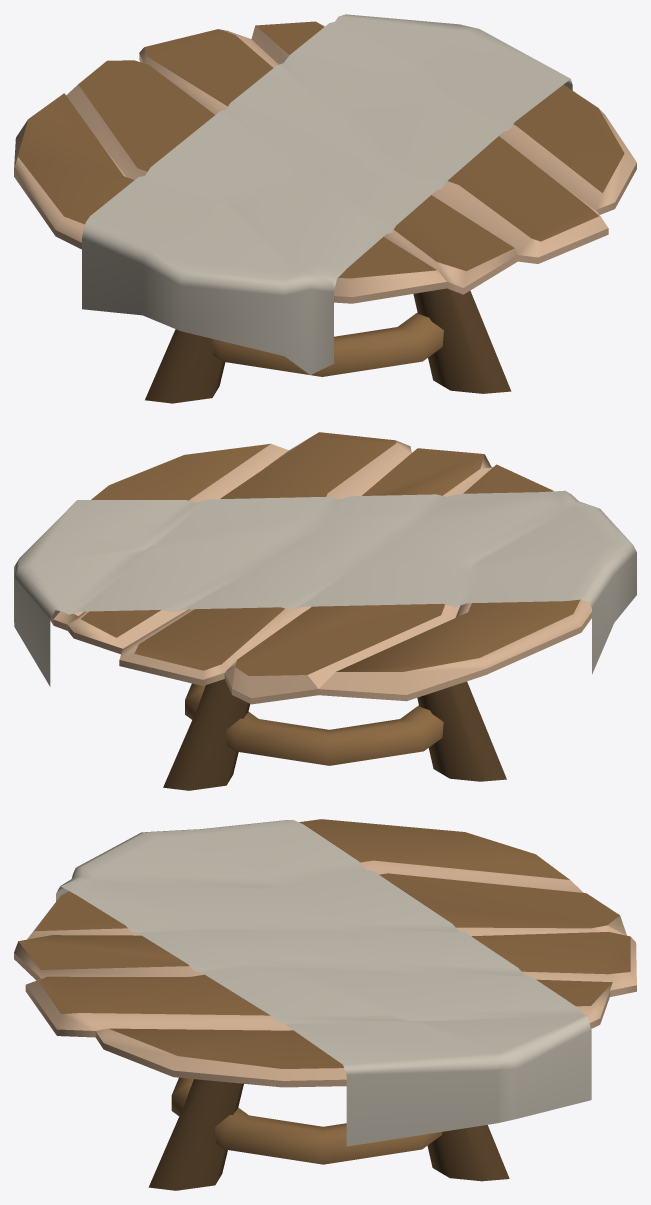
The model's file is Table1.fbx.
3 renders of one model, top to bottom at view 1: azimuth 30°, elevation 25°; view 2: azimuth 150°, elevation 25°; view 3: azimuth 270°, elevation 25°, orthographic. The views are drawn at different scales.
Parts seen in each view (by area): view 1: pTorus3; view 2: pTorus3; view 3: pTorus3.
Boxes of the visible parts, x1,y1,x2,y2 form: pTorus3: (14, 14, 636, 403); pTorus3: (14, 432, 636, 790); pTorus3: (14, 819, 636, 1190).
Bounding box in the file's own units: 11.89 × 4.34 × 12.28.
